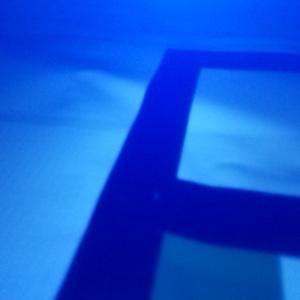bottom_right: (100, 197, 283, 300)
